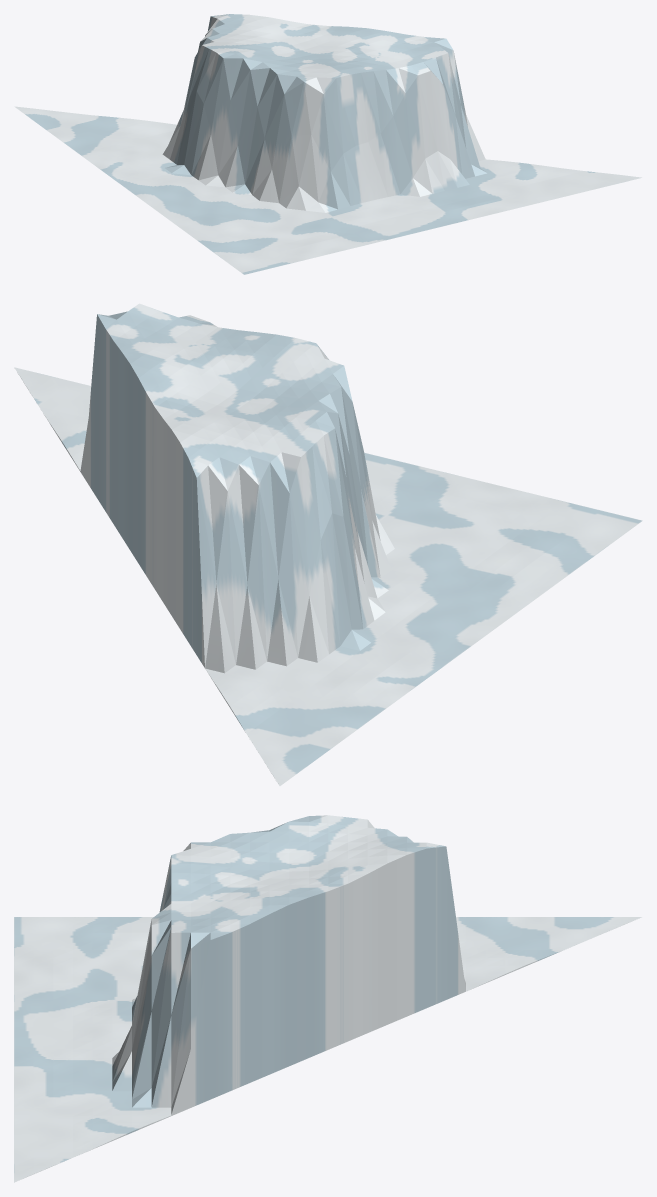
Rendered from Snow_Mountains_04_NW.obj.
The picture shows the model from 3 angles, top to bottom: view 1: azimuth 30°, elevation 25°; view 2: azimuth 150°, elevation 25°; view 3: azimuth 270°, elevation 25°; orthographic projection. The views are drawn at different scales.
Bounding box in the file's own units: 10 × 2.84 × 10.
Materials: 1 (1 with a texture image).
